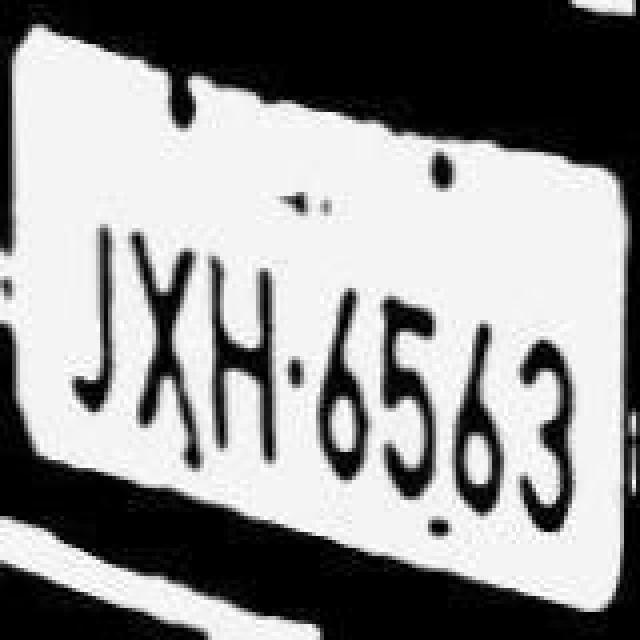3: (506, 288, 582, 552)
5: (374, 252, 442, 504)
6: (302, 250, 370, 510), (442, 264, 510, 516)
H: (202, 220, 290, 488)
J: (50, 182, 130, 450)
X: (132, 180, 208, 448)
